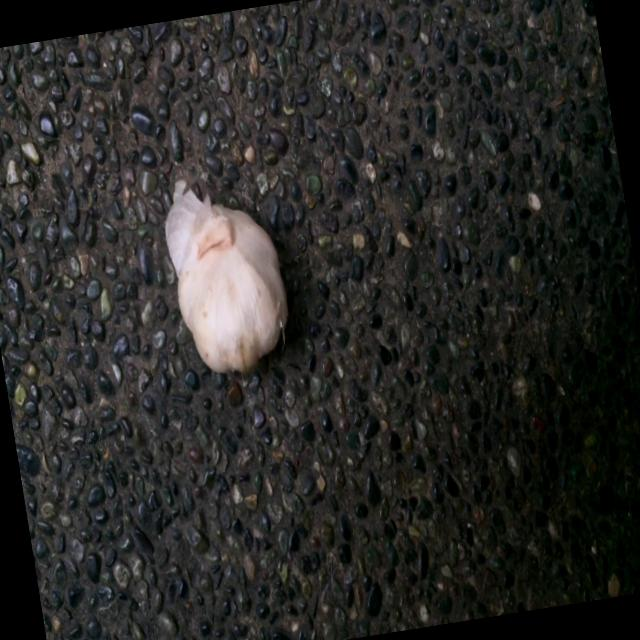bawang: (159, 174, 300, 383)
